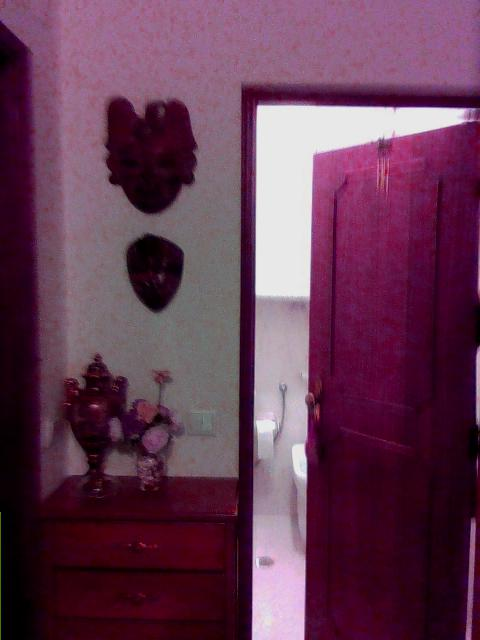semi_door: (239, 80, 478, 639)
